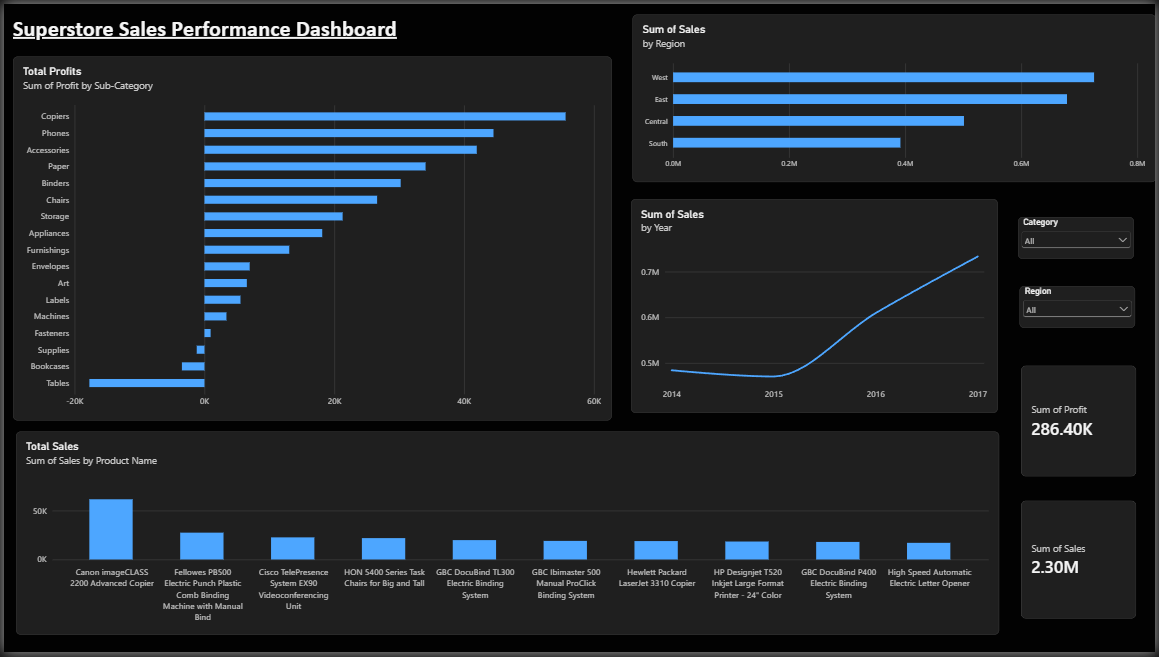

This screenshot's page, from the dashboard's own definition file:
{"tool":"powerbi","page":{"name":"Page 1","canvas":[1920,1080],"ordinal":0},"visuals":[{"type":"lineChart","fields":{"Category":["Sample - Superstore (3).Order Date.Variation.Date Hierarchy.Year"],"Y":["Sum(Sample - Superstore (3).Sales)"]},"box":[1045,325,611.4,356.8],"z":0},{"type":"clusteredBarChart","fields":{"Category":["Sample - Superstore (3).Region"],"Y":["Sum(Sample - Superstore (3).Sales)"]},"box":[1047.7,18.2,872.7,279.5],"z":1000},{"type":"columnChart","title":"Total Sales","fields":{"Category":["Sample - Superstore (3).Product Name"],"Y":["Sum(Sample - Superstore (3).Sales)"]},"box":[20.5,711.4,1638.6,338.6],"z":2000},{"type":"clusteredBarChart","title":"Total Profits","fields":{"Category":["Sample - Superstore (3).Sub-Category"],"Y":["Sum(Sample - Superstore (3).Profit)"]},"box":[15.9,86.4,997.7,606.8],"z":3000},{"type":"slicer","fields":{"Values":["Sample - Superstore (3).Category"]},"box":[1690,355,193.3,70],"z":4000},{"type":"textbox","box":[15.9,18.2,661.4,45.5],"z":5000},{"type":"cardVisual","fields":{"Data":["Sum(Sample - Superstore (3).Profit)"]},"box":[1695,602.5,192.2,185.6],"z":6000},{"type":"cardVisual","fields":{"Data":["Sum(Sample - Superstore (3).Sales)"]},"box":[1695,827.5,192.2,197.8],"z":7000},{"type":"slicer","fields":{"Values":["Sample - Superstore (3).Region"]},"box":[1692.5,470,192.5,70],"z":8000}]}

Visuals, with their boxes in screenshot pixels (x1, y1, x2, y2), scaled from the page's 1920x1080 canvas onto the 1159x657 screenshot:
lineChart - Sample - Superstore (3).Order Date.Variation.Date Hierarchy.Year x Sum(Sample - Superstore (3).Sales): detection(631, 198, 1000, 415)
clusteredBarChart - Sample - Superstore (3).Region x Sum(Sample - Superstore (3).Sales): detection(632, 11, 1158, 181)
"Total Sales" columnChart: detection(12, 433, 1002, 639)
"Total Profits" clusteredBarChart: detection(10, 53, 612, 422)
slicer - Sample - Superstore (3).Category: detection(1020, 216, 1137, 259)
textbox: detection(10, 11, 409, 39)
cardVisual - Sum(Sample - Superstore (3).Profit): detection(1023, 367, 1139, 479)
cardVisual - Sum(Sample - Superstore (3).Sales): detection(1023, 503, 1139, 624)
slicer - Sample - Superstore (3).Region: detection(1022, 286, 1138, 328)
